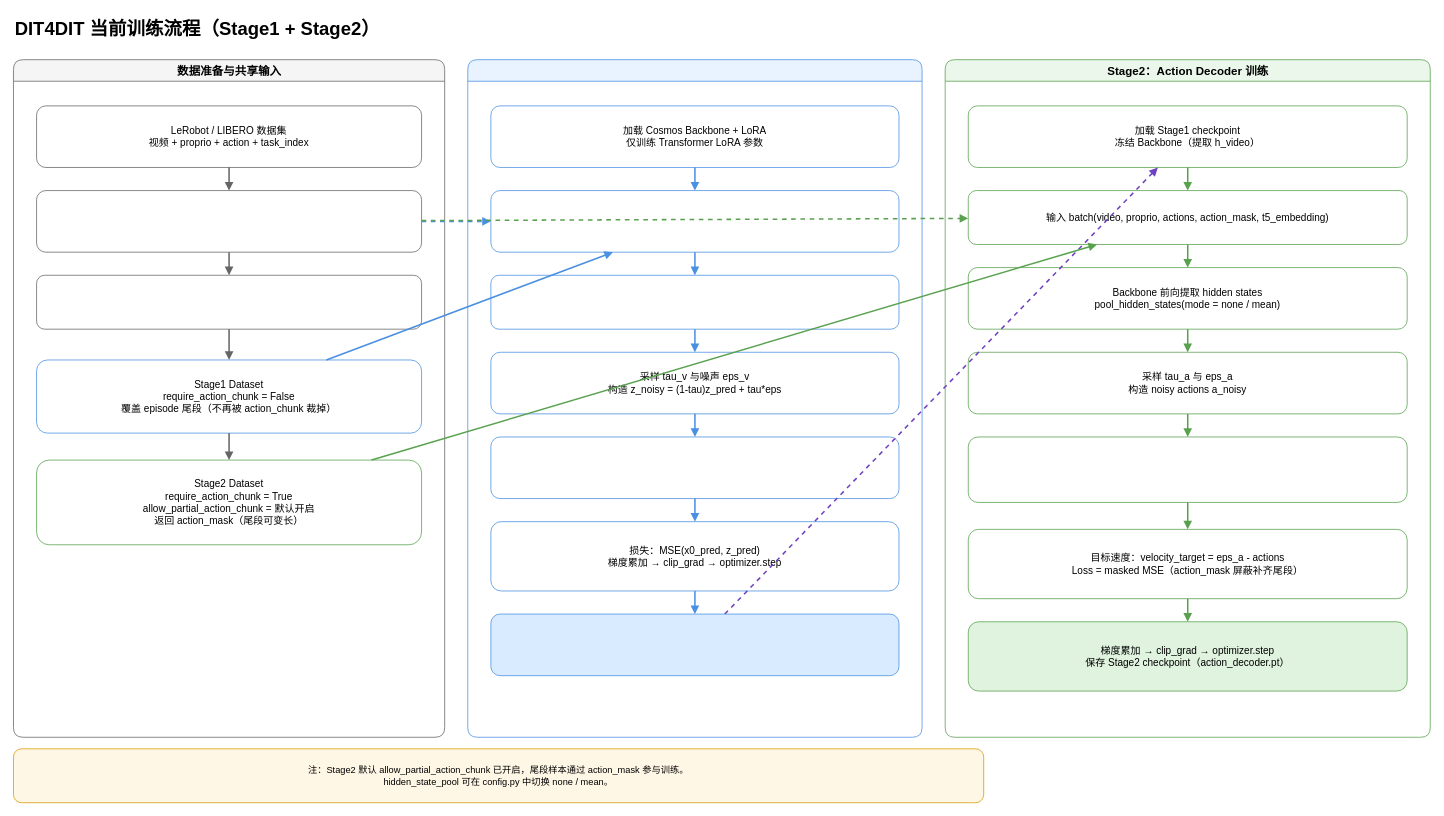
This 1444x816 diagram has some shape labels left out. The shapes that lost their labels are listed below. From the top down, each one's box as (x1, y1, x2, y2) in pixels, then its label:
(36, 190, 422, 252): 预计算文本条件 t5_embeddings.pt + t5_task_descriptions.json
(490, 190, 899, 252): 输入 batch(video, t5_embedding) video: [B,T,C,H,W] → [B,C,T,H,W]
(36, 275, 422, 329): 动作统计（用于反归一化） action_stats.pt
(490, 275, 899, 329): VAE 编码得到 z0 切分 z_cond / z_pred
(467, 59, 922, 737): Stage1：Video DiT（LoRA）训练
(490, 436, 899, 499): Transformer 前向（LoRA 生效） 预测 x0_pred / full_output
(968, 436, 1407, 502): ActionDecoder 前向 velocity_pred = f(a_noisy, proprio, h_video, t5, tau)
(490, 613, 899, 676): 保存 Stage1 checkpoint （后续供 Stage2 冻结特征提取）
